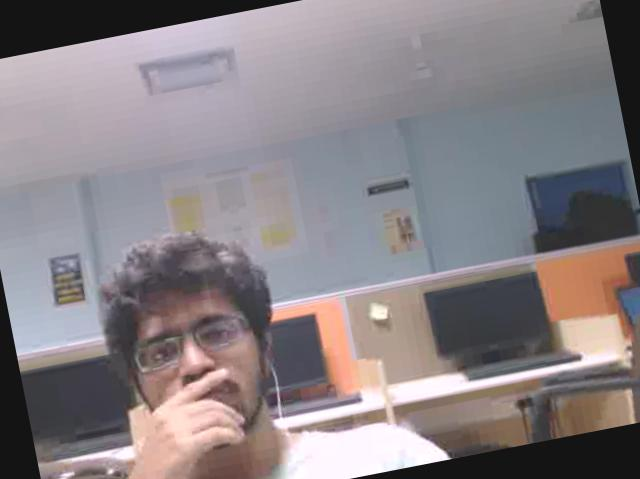bingung: (127, 274, 270, 443)
